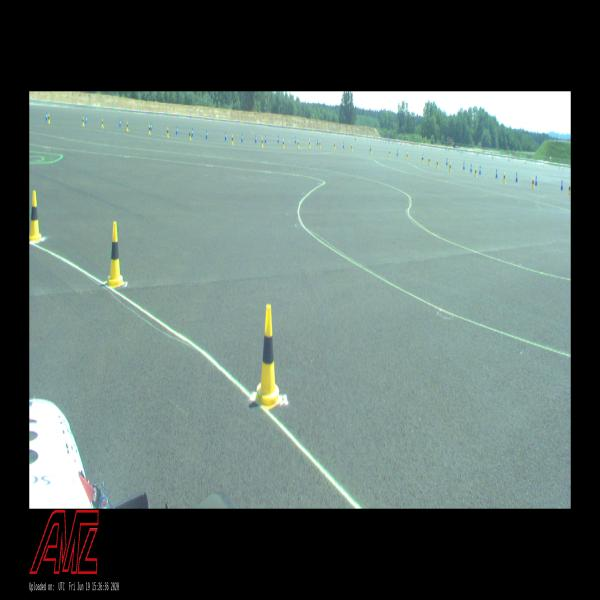blue_cone: (515, 172, 518, 182), (470, 164, 473, 172), (85, 116, 88, 123), (561, 180, 563, 190), (225, 132, 227, 141), (206, 130, 208, 139), (496, 169, 498, 178), (46, 112, 48, 121), (535, 176, 537, 185), (192, 128, 194, 137), (241, 134, 243, 142), (176, 126, 178, 134), (255, 135, 257, 143), (264, 135, 266, 143), (479, 166, 481, 174), (463, 162, 465, 170), (446, 158, 448, 165), (150, 123, 152, 130), (295, 136, 296, 144), (317, 138, 318, 146), (397, 149, 398, 156), (120, 120, 121, 126), (343, 142, 344, 148), (278, 136, 279, 142)
yellow_cone: (255, 305, 282, 410), (106, 222, 125, 288), (30, 191, 42, 241), (503, 172, 506, 183), (568, 184, 571, 194), (148, 124, 151, 134), (436, 159, 439, 168), (532, 177, 534, 188), (261, 138, 263, 148), (232, 135, 234, 145), (449, 162, 451, 172), (126, 122, 128, 131), (167, 128, 169, 137), (48, 114, 50, 123), (82, 117, 84, 126), (189, 131, 191, 140), (102, 119, 104, 127), (282, 140, 284, 148), (474, 168, 476, 176), (351, 144, 353, 151), (406, 152, 408, 159), (319, 141, 321, 148), (428, 157, 430, 164), (309, 140, 310, 148), (298, 140, 299, 148), (334, 142, 335, 149), (370, 147, 371, 154), (389, 150, 390, 157), (422, 156, 423, 162)
